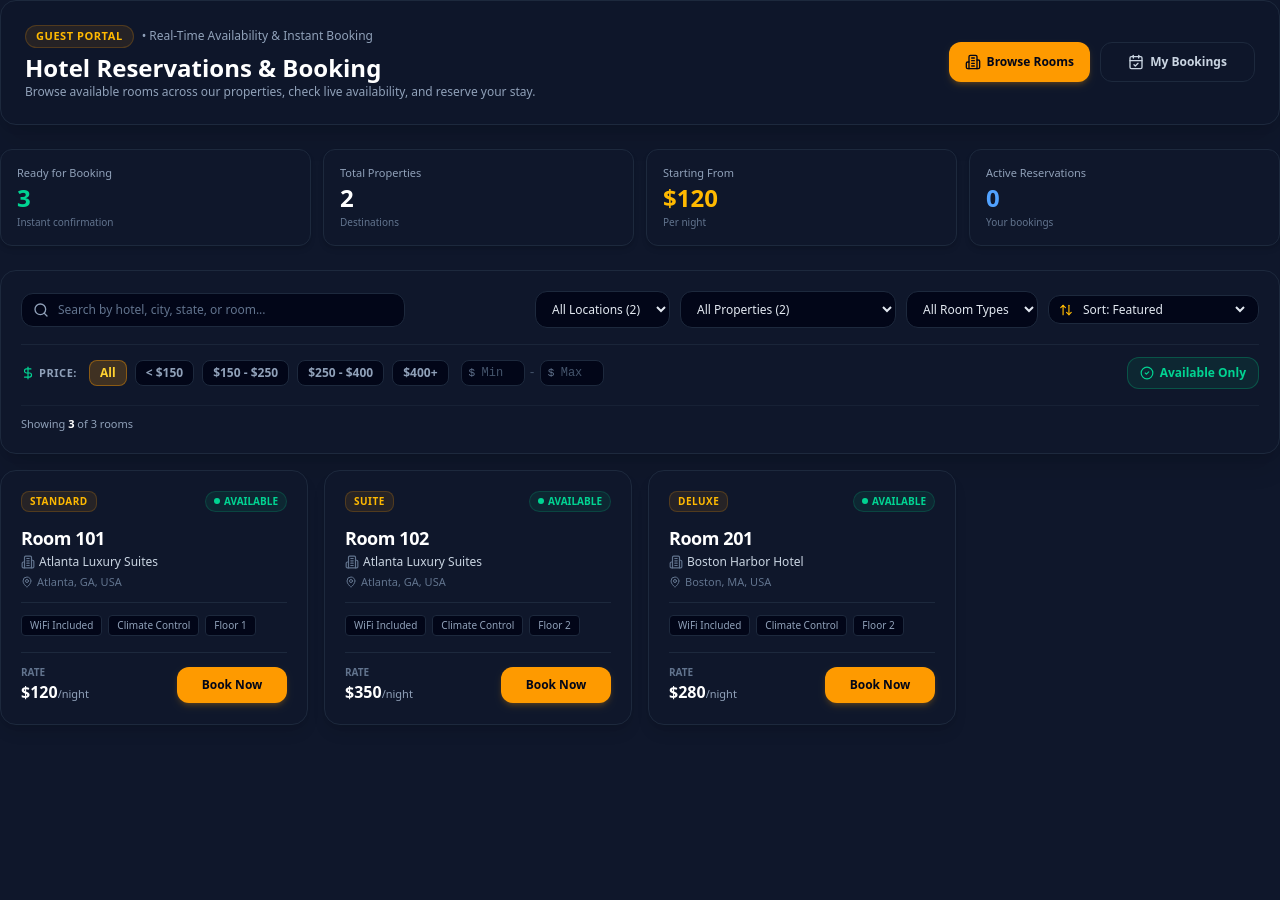
it: GuestView Component Tests › shows empty state when no rooms match filters and allows reset
# Search for nonexistent room
In the field with placeholder "Search by hotel, city, state, or room...": (213, 310) 21,293 -> 405,327, type "NonexistentRoomXYZ"
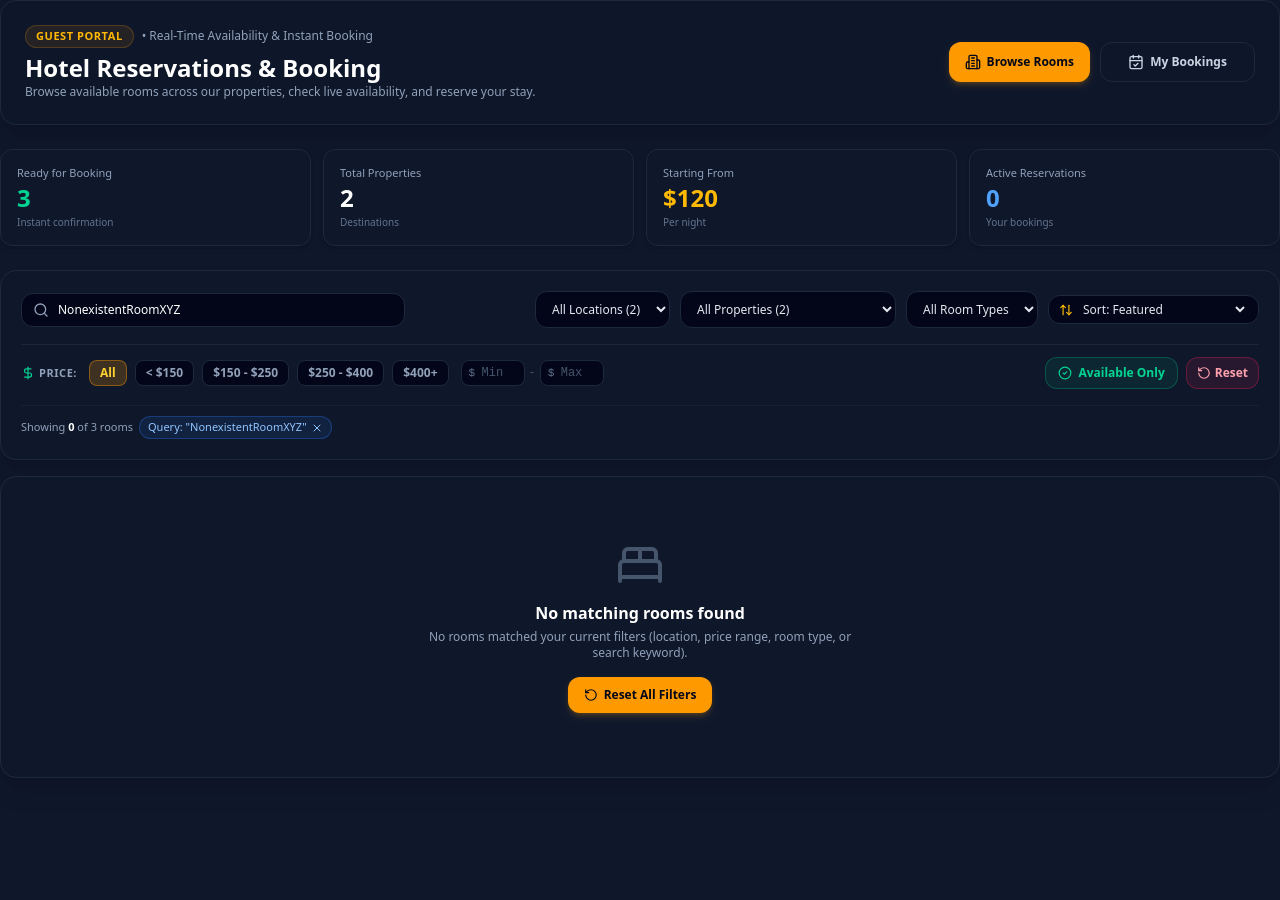
Result: the text "No matching rooms found" is shown at 535,602 -> 745,624
# Click reset button in empty state
Click the button "Reset All Filters": (640, 695) 568,677 -> 712,713
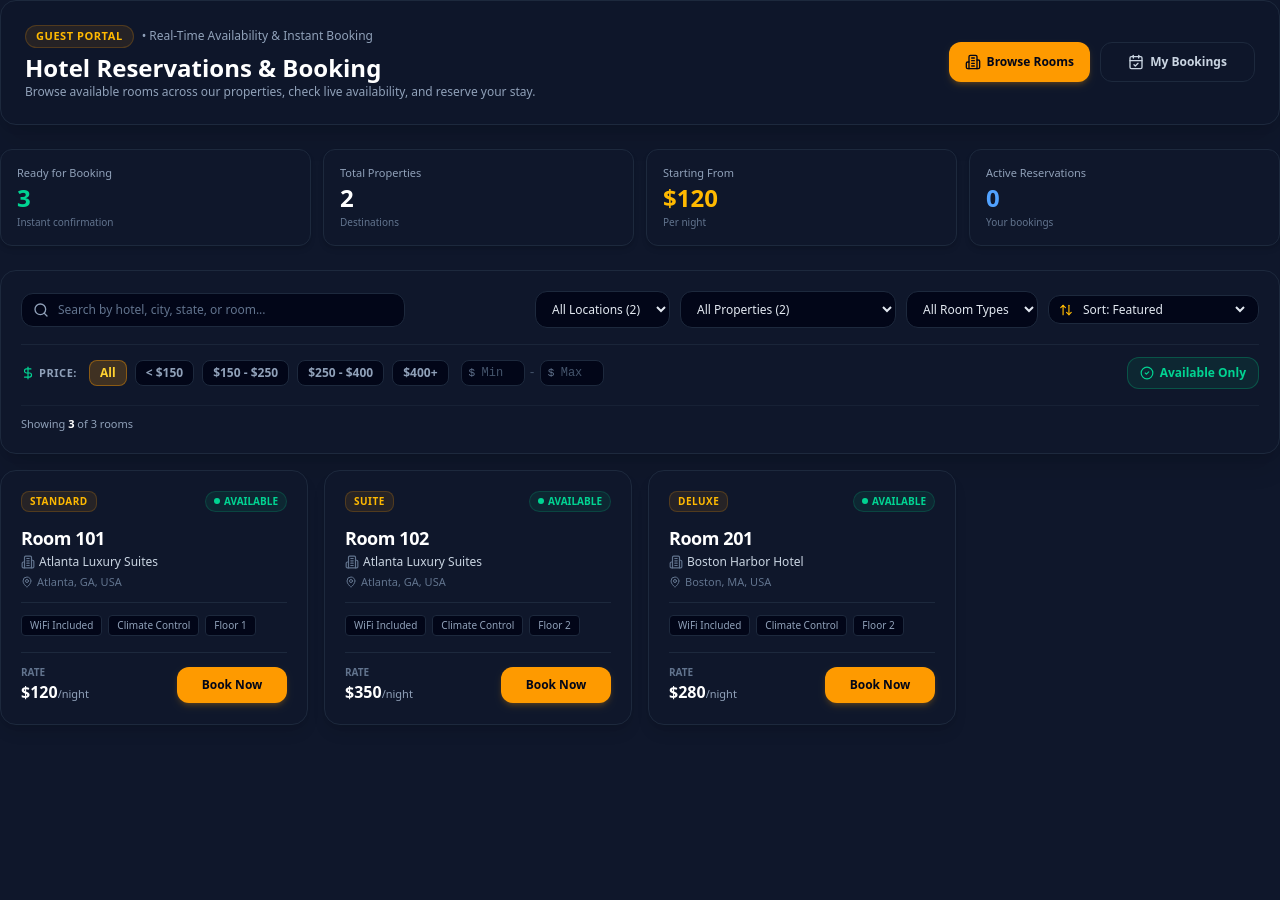
Result: the heading "Room 101" is shown at 21,526 -> 105,550
Result: the heading "Room 201" is shown at 669,526 -> 753,550
